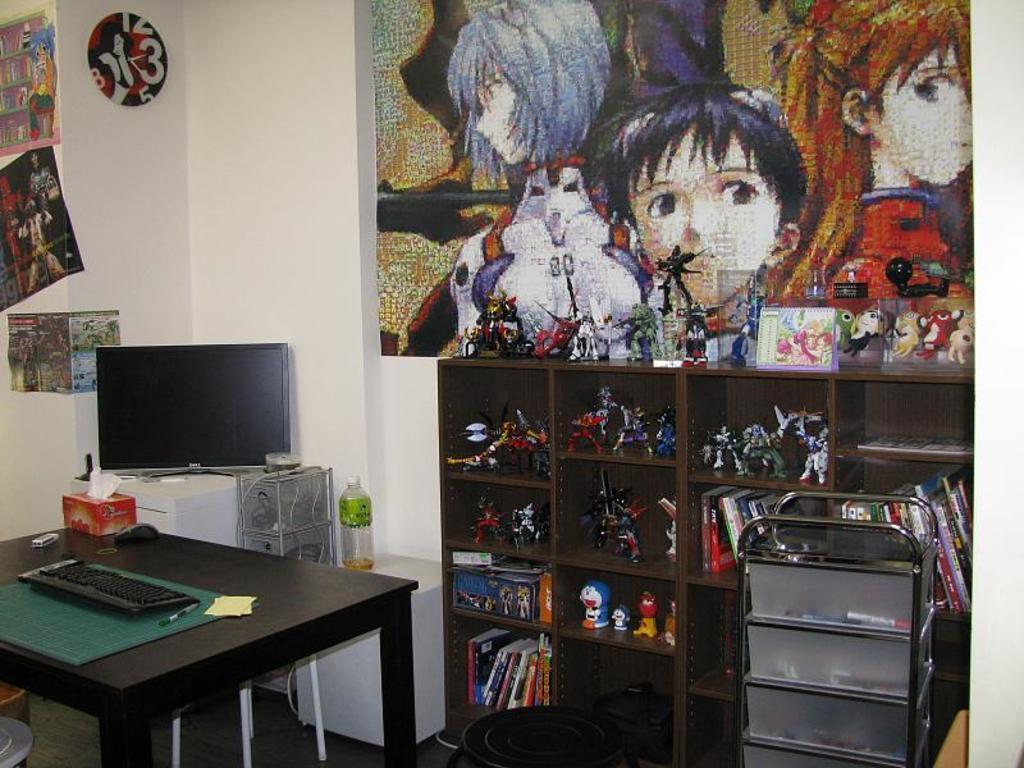Computer-monitor: (81, 335, 298, 499)
